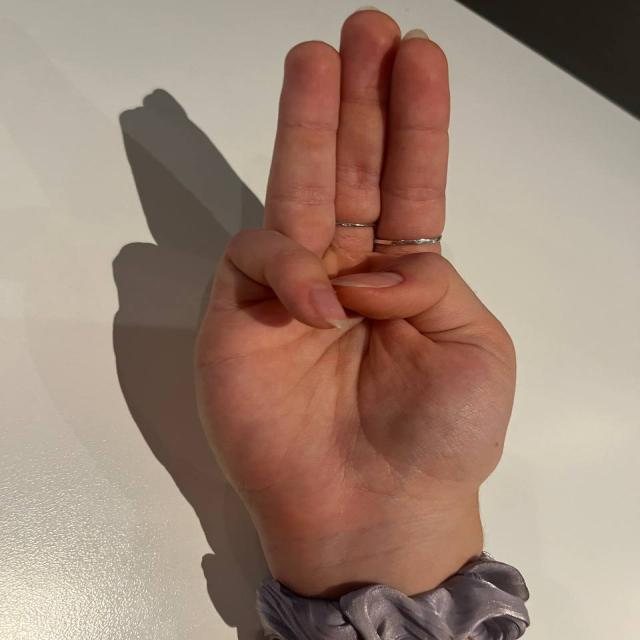sh: (198, 4, 529, 538)
